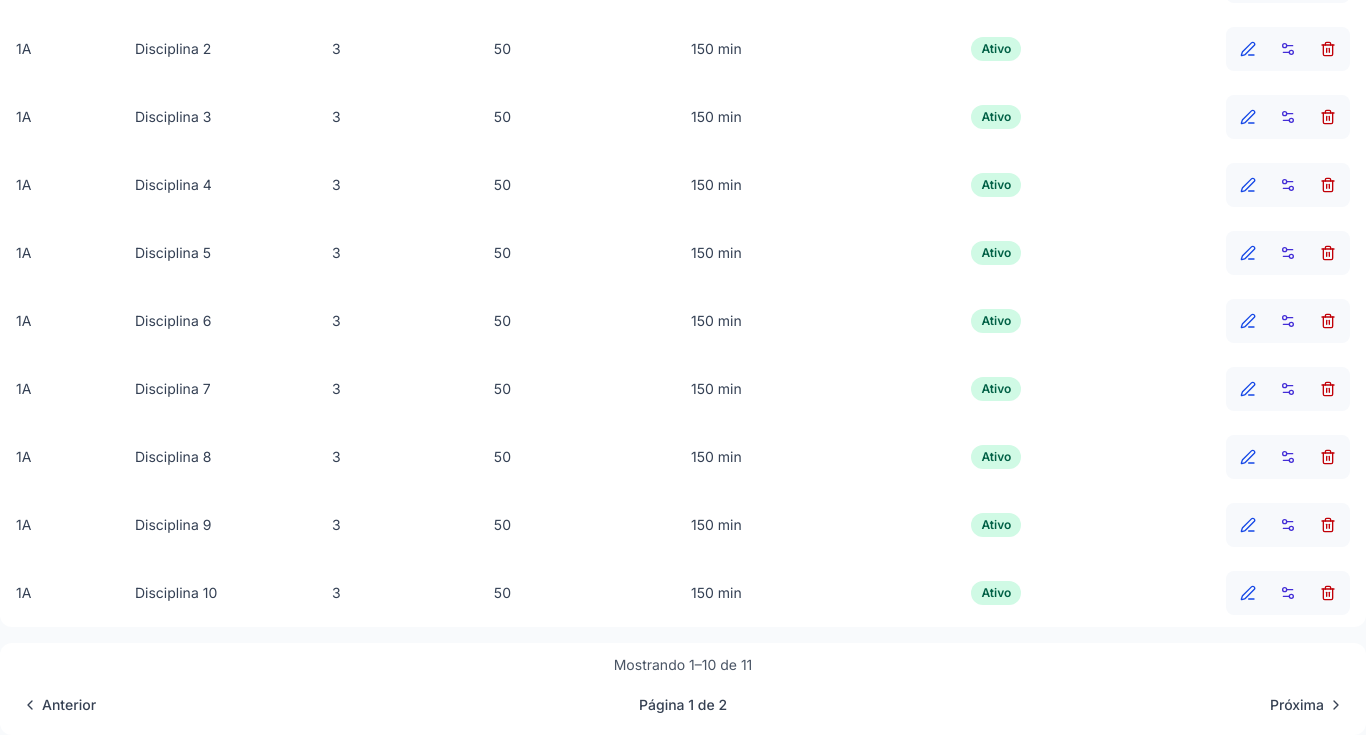
CurriculumTab › limita a matriz e permite navegar entre páginas
The width and height of the screenshot is (1366, 735).
(page scrolled)
Expected: the text "Mostrando 1–10 de 11" is shown, top-left (614, 656), bottom-right (752, 673)
Expected: the text "Disciplina 11" is not shown
Click the button with aria-label "Próxima página" at (1307, 705), box top-left (1260, 687), bottom-right (1354, 723)
(page scrolled)
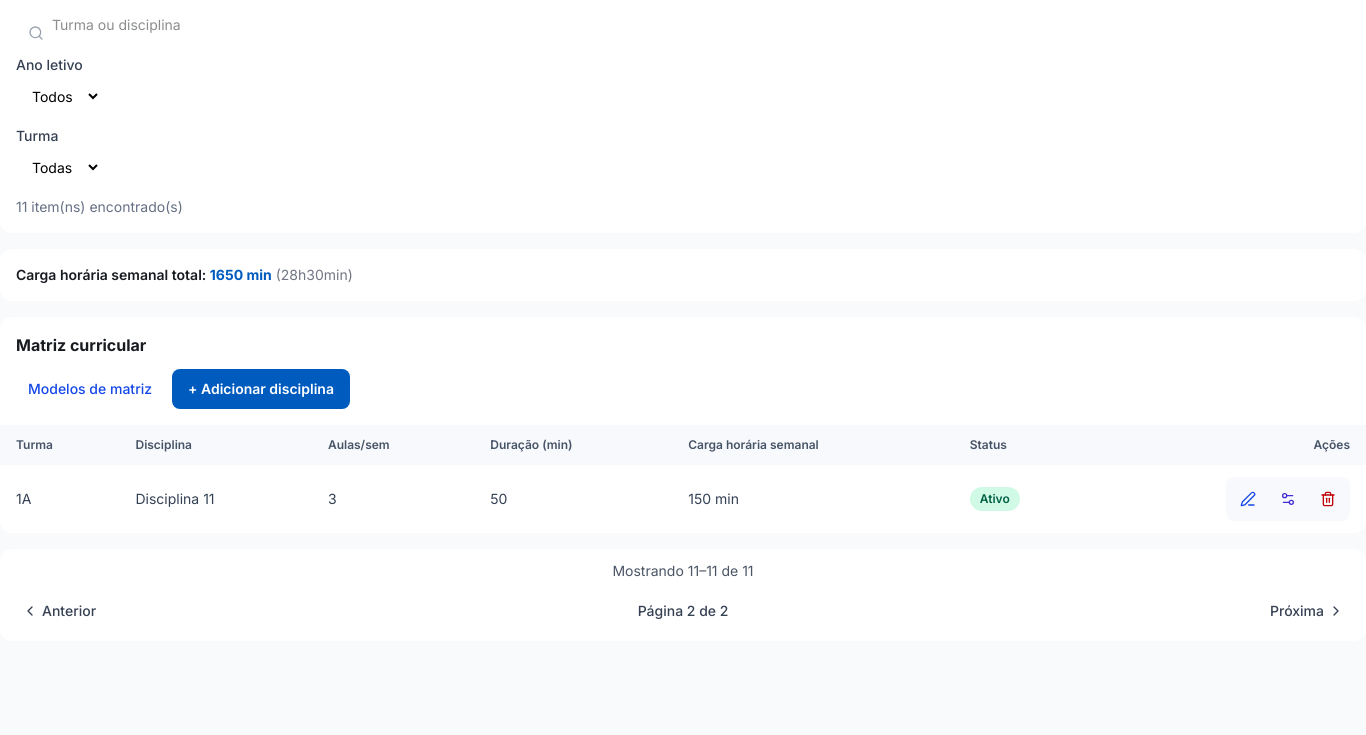
Now the text "Página 2 de 2" is shown, box top-left (638, 602), bottom-right (728, 619)
Now the text "Disciplina 11" is shown, box top-left (120, 465), bottom-right (312, 533)
